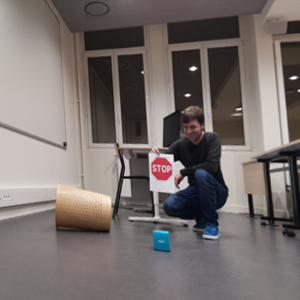stop: (151, 157, 173, 179)
